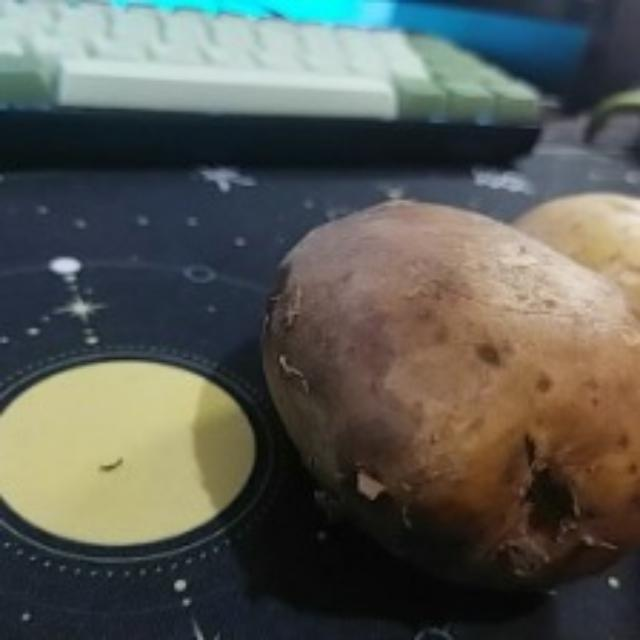Damaged potato: (256, 192, 640, 604)
Potato: (514, 180, 640, 328)
